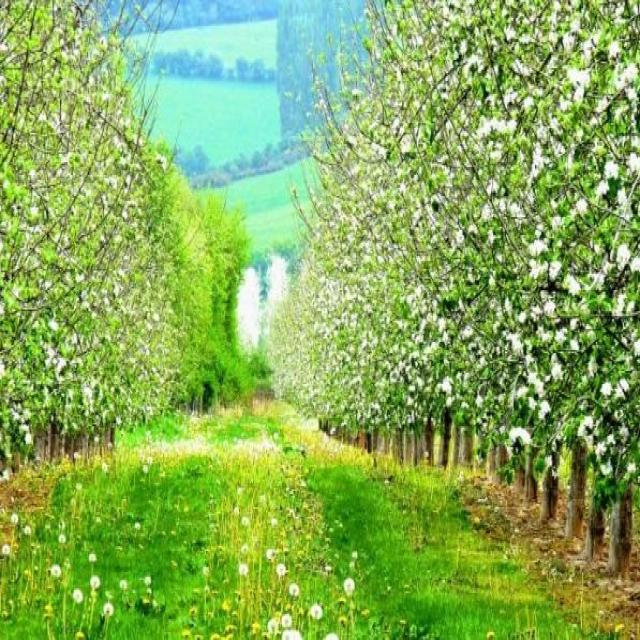row: (0, 401, 627, 636)
